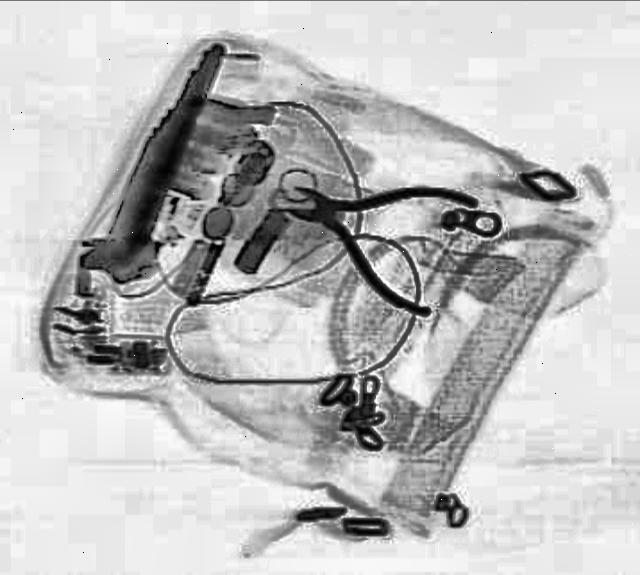Pliers: (262, 141, 490, 315)
